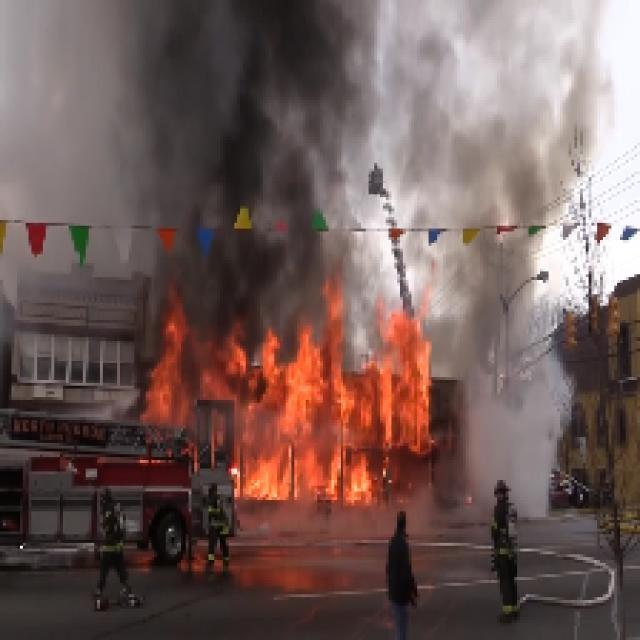Fire: (156, 346, 437, 498)
Smoke: (161, 13, 342, 310), (465, 371, 565, 514)
